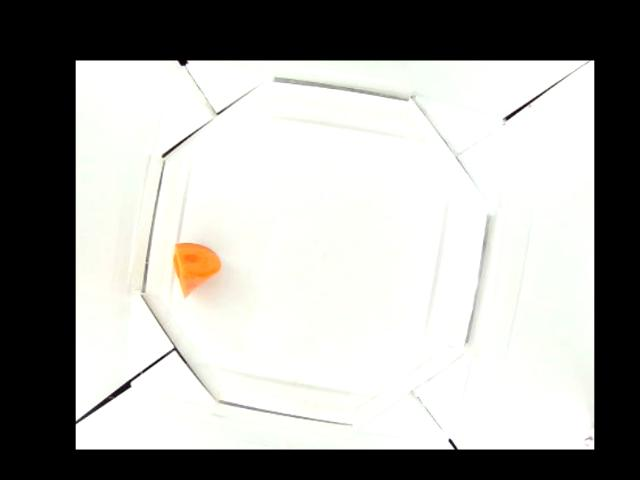Carrot: (172, 242, 220, 297)
